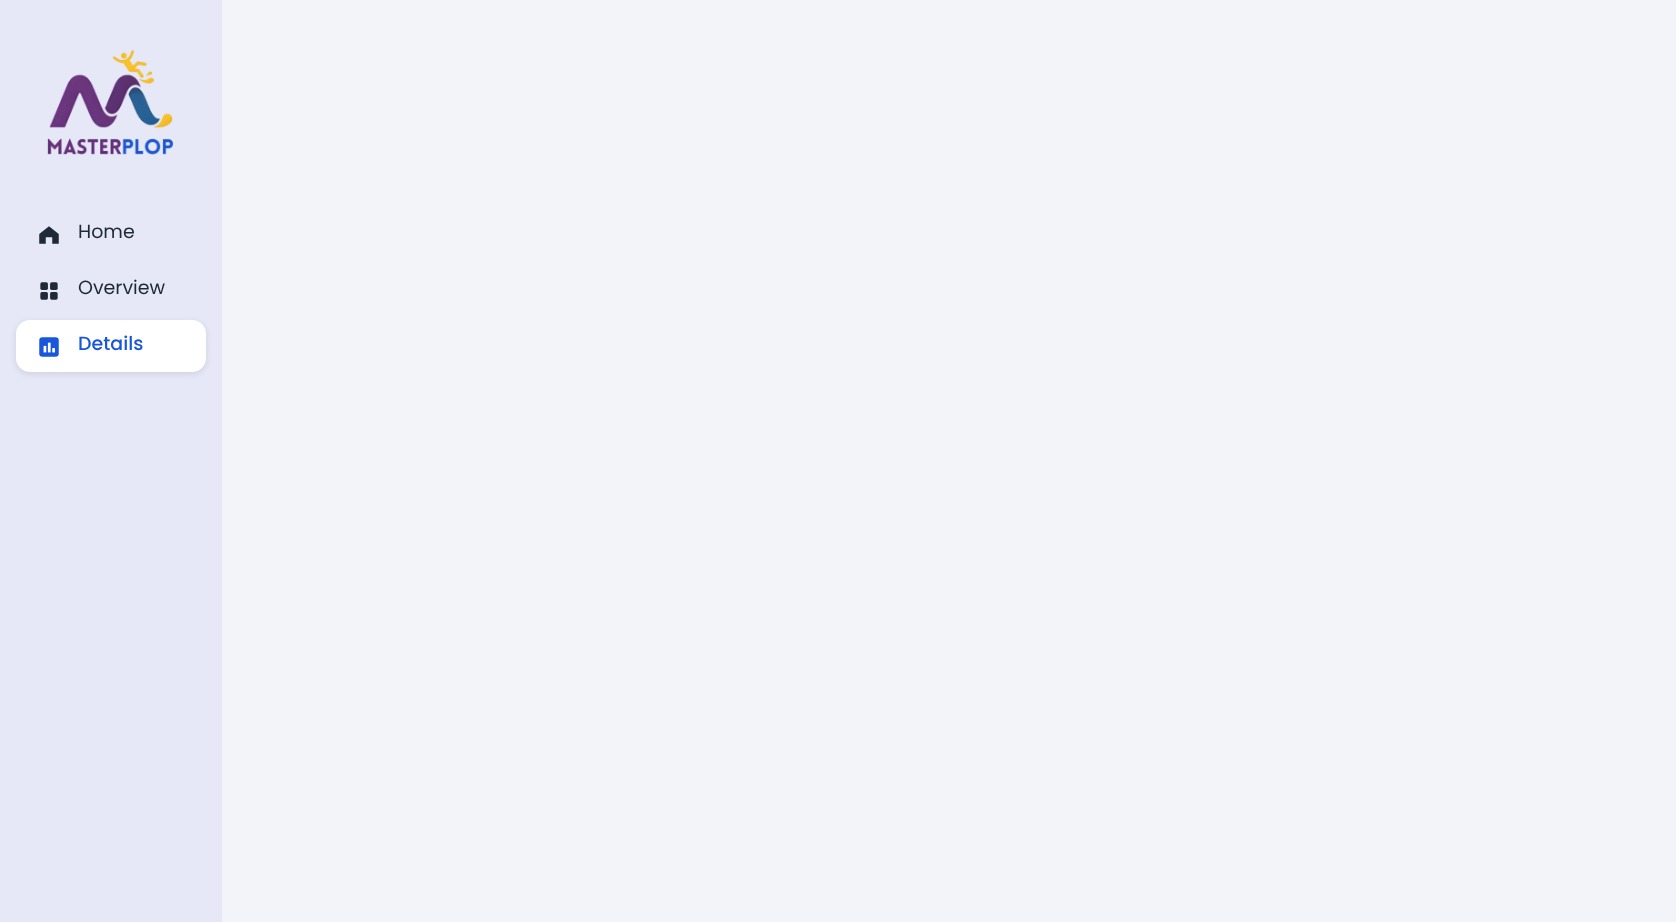

Layout of this report page (visuals, bound fields, positions):
{"tool":"powerbi","page":{"name":"Details","canvas":[1920,1080],"ordinal":2},"visuals":[{"type":"textbox","box":[22.5,478.8,210,36.2],"z":0},{"type":"advancedSlicerVisual","fields":{"Values":["DB_CARDS_202611061020.product_name"]},"box":[22.5,642.2,211,110.9],"z":0,"group":"g1"},{"type":"advancedSlicerVisual","fields":{"Values":["DB_CARDS.Trx Internacional"]},"box":[22.5,807.4,211.8,30.9],"z":0,"group":"g3"},{"type":"advancedSlicerVisual","fields":{"Values":["DB_CARDS_202611061020.Reembolso"]},"box":[22.5,893.8,211.8,30.9],"z":0,"group":"g5"},{"type":"advancedSlicerVisual","fields":{"Values":["DB_CARDS_202611061020.Region"]},"box":[22.5,982.6,211,68.2],"z":0,"group":"g4"},{"type":"advancedSlicerVisual","fields":{"Values":["DB_CARDS_202611061020.PRODUCT_TYPE"]},"box":[22.1,555.2,211,31.8],"z":4,"group":"g2"},{"type":"textbox","box":[22.1,528.8,211.1,26.7],"z":12,"group":"g2"},{"type":"textbox","box":[22.5,615.8,211.1,26.7],"z":1000,"group":"g1"},{"type":"group","id":"g1","title":"Grupo 1","box":[22.5,615.8,211.2,136.2],"z":1000},{"type":"textbox","box":[22.5,781,211.1,26.7],"z":1000,"group":"g3"},{"type":"textbox","box":[22.5,867.4,211.1,26.7],"z":1000,"group":"g5"},{"type":"textbox","box":[22.5,953.8,211.1,26.7],"z":1000,"group":"g4"},{"type":"group","id":"g2","title":"Grupo 2","box":[22.1,528.8,211.1,58.2],"z":2000},{"type":"group","id":"g3","title":"Grupo 3","box":[22.5,781,211.2,57.5],"z":3000},{"type":"group","id":"g4","title":"Grupo 4","box":[22.5,953.8,211.2,97.5],"z":4000},{"type":"group","id":"g5","title":"Grupo 3","box":[22.5,867.4,211.2,57.5],"z":5000},{"type":"actionButton","box":[26,246,204,50],"z":6000},{"type":"actionButton","box":[28,312,204,50],"z":7000},{"type":"pivotTable","fields":{"Rows":["DB_CARDS.mcg_name","DB_CARDS.mrch"],"Values":["MEDIDAS_DAX.Transacciones","MEDIDAS_DAX.% Trx","MEDIDAS_DAX.Monto_trx MM","MEDIDAS_DAX.% Monto","MEDIDAS_DAX.Consumos","MEDIDAS_DAX.% Consumos","MEDIDAS_DAX.Trx Contactless","MEDIDAS_DAX.% Contactless"]},"box":[290,93.3,1593.3,945],"z":8000},{"type":"cardVisual","fields":{"Data":["MEDIDAS_DAX.TITULO COMERCIO"]},"box":[285,21.7,651.7,71.7],"z":9000},{"type":"pageNavigator","box":[1646.7,26.7,226.7,31.7],"z":9001}]}

Visuals, with their boxes on the page's 1920x1080 design canvas (x1, y1, x2, y2). These are canvas units, not pixel positions in the 1676x922 screenshot, which may show the page scaled, cropped or inside an application window:
textbox: (x1=22, y1=479, x2=232, y2=515)
advancedSlicerVisual - DB_CARDS_202611061020.product_name: (x1=22, y1=642, x2=234, y2=753)
advancedSlicerVisual - DB_CARDS.Trx Internacional: (x1=22, y1=807, x2=234, y2=838)
advancedSlicerVisual - DB_CARDS_202611061020.Reembolso: (x1=22, y1=894, x2=234, y2=925)
advancedSlicerVisual - DB_CARDS_202611061020.Region: (x1=22, y1=983, x2=234, y2=1051)
advancedSlicerVisual - DB_CARDS_202611061020.PRODUCT_TYPE: (x1=22, y1=555, x2=233, y2=587)
textbox: (x1=22, y1=529, x2=233, y2=556)
textbox: (x1=22, y1=616, x2=234, y2=642)
"Grupo 1" group: (x1=22, y1=616, x2=234, y2=752)
textbox: (x1=22, y1=781, x2=234, y2=808)
textbox: (x1=22, y1=867, x2=234, y2=894)
textbox: (x1=22, y1=954, x2=234, y2=980)
"Grupo 2" group: (x1=22, y1=529, x2=233, y2=587)
"Grupo 3" group: (x1=22, y1=781, x2=234, y2=838)
"Grupo 4" group: (x1=22, y1=954, x2=234, y2=1051)
"Grupo 3" group: (x1=22, y1=867, x2=234, y2=925)
actionButton: (x1=26, y1=246, x2=230, y2=296)
actionButton: (x1=28, y1=312, x2=232, y2=362)
pivotTable - DB_CARDS.mcg_name x DB_CARDS.mrch: (x1=290, y1=93, x2=1883, y2=1038)
cardVisual - MEDIDAS_DAX.TITULO COMERCIO: (x1=285, y1=22, x2=937, y2=93)
pageNavigator: (x1=1647, y1=27, x2=1873, y2=58)
